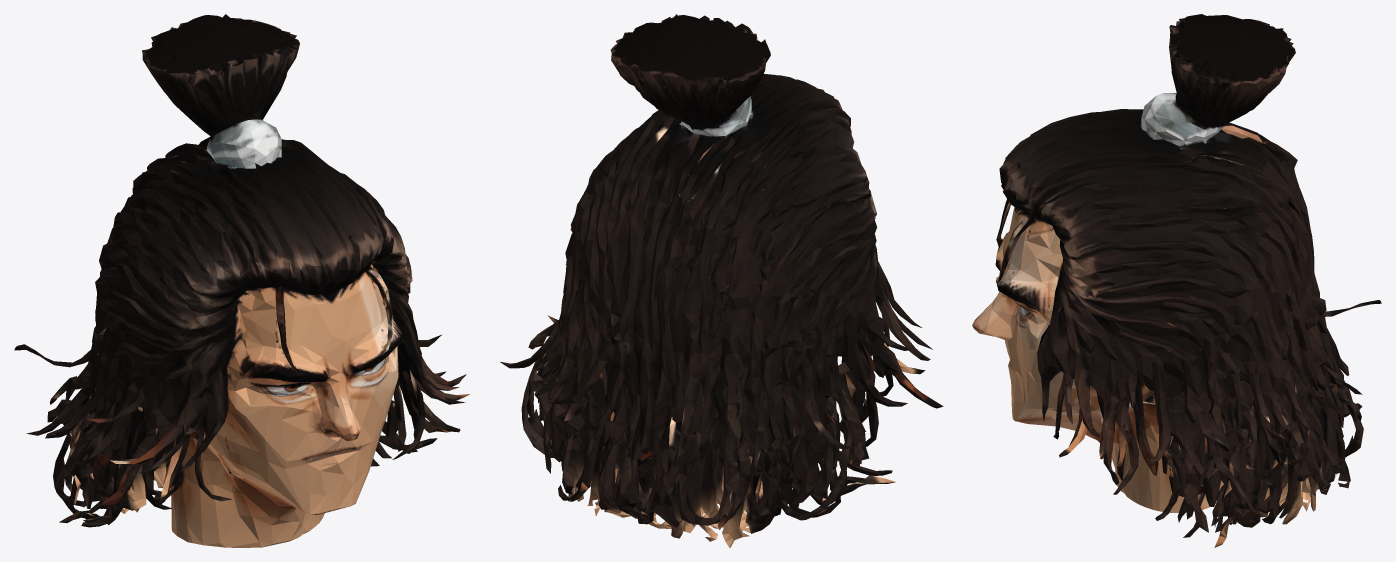
Rendered from side_hojiki_repaired_atlas.glb.
3 renders of one model, left to right at view 1: azimuth 30°, elevation 25°; view 2: azimuth 150°, elevation 25°; view 3: azimuth 270°, elevation 25°, orthographic. The views are drawn at different scales.
Visible parts, largest first — view 1: temp_mesh.ply; view 2: temp_mesh.ply; view 3: temp_mesh.ply.
Part boxes in pixels (bbox=[...]): temp_mesh.ply: bbox=[14, 14, 469, 547]; temp_mesh.ply: bbox=[500, 14, 943, 547]; temp_mesh.ply: bbox=[972, 14, 1381, 547].
Size of the model in its own units: 1.31 by 1.59 by 1.29.
1 material, 1 textured.
